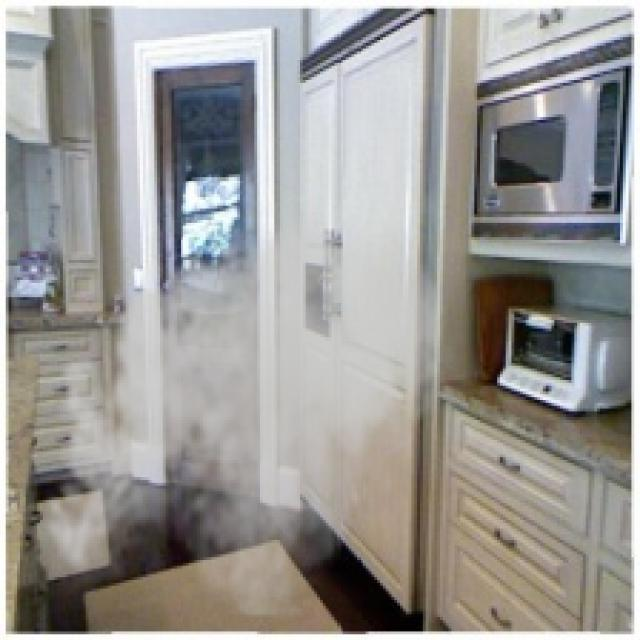Smoke: (32, 195, 454, 620)
